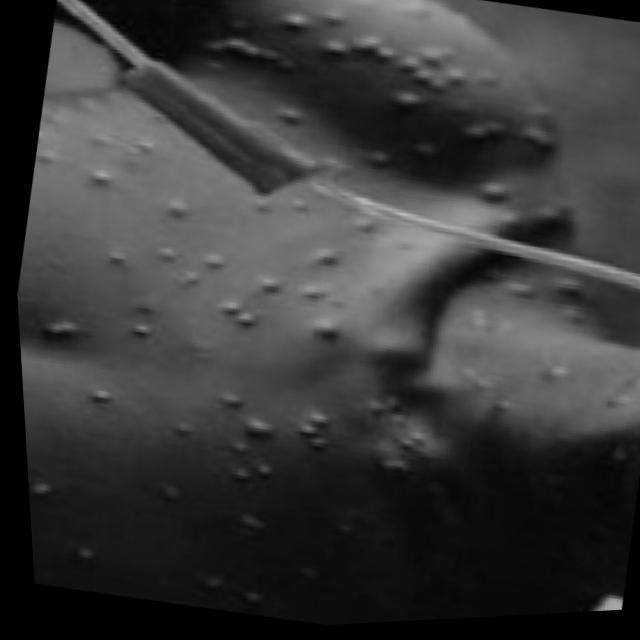Eczema: (0, 0, 588, 635)
